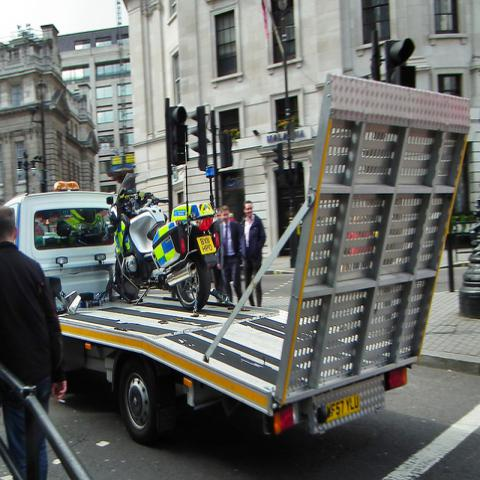motorcycle: (106, 168, 218, 314)
truck: (5, 77, 472, 448)
